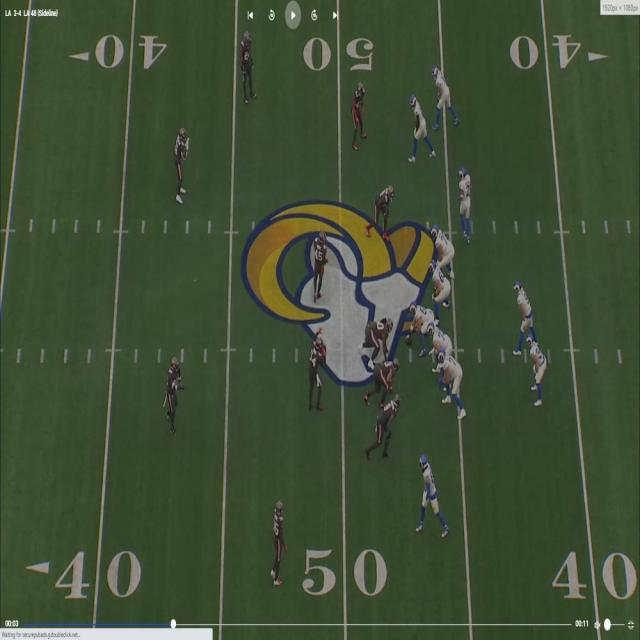center: (406, 296, 426, 340)
db: (274, 495, 287, 583), (177, 124, 190, 200), (242, 26, 255, 94), (351, 81, 364, 147), (169, 356, 180, 422)
lb: (309, 335, 325, 404), (313, 233, 328, 301)
qb: (513, 280, 531, 352)
skill: (418, 452, 444, 533), (435, 62, 458, 126), (411, 92, 434, 154), (526, 335, 543, 407), (457, 166, 472, 241)
